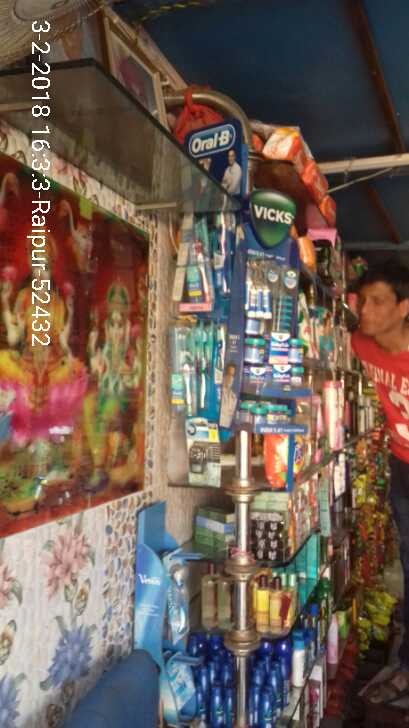vicks: (242, 282, 309, 431)
